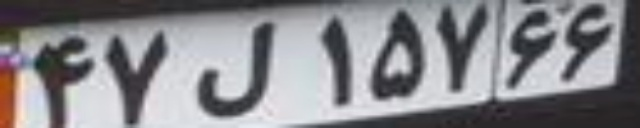1: (314, 14, 352, 105)
4: (32, 35, 94, 127)
5: (366, 9, 420, 99)
6: (505, 8, 557, 89), (561, 3, 614, 82)
7: (104, 28, 172, 125), (435, 3, 488, 93)
lam: (192, 20, 272, 118)
